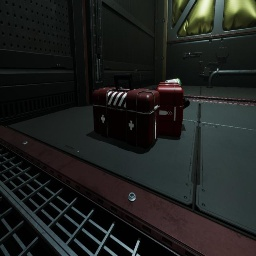0: (165, 78, 182, 86)
FirstAidBox ,: (93, 73, 160, 149), (156, 82, 190, 137)
